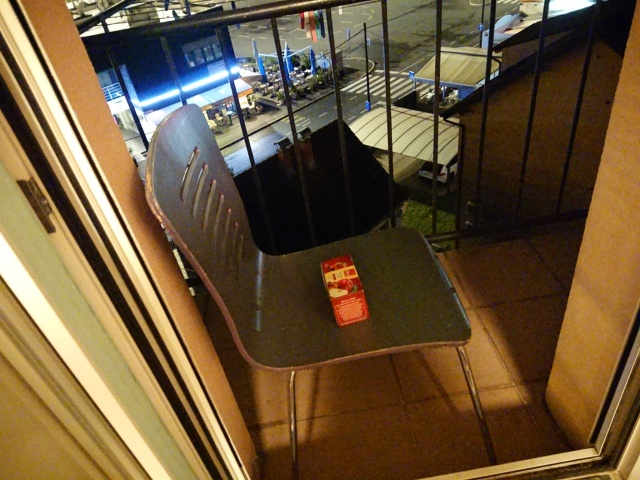Franck Apple Cinnamon Tea 60g: (316, 250, 373, 329)
